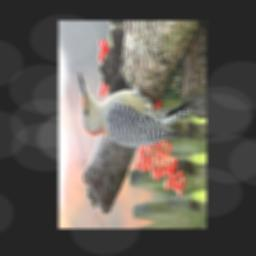Woodpecker: (75, 55, 205, 151)
